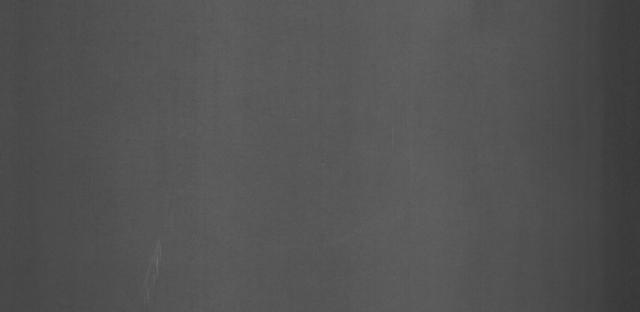silk_spot: (120, 238, 179, 302)
